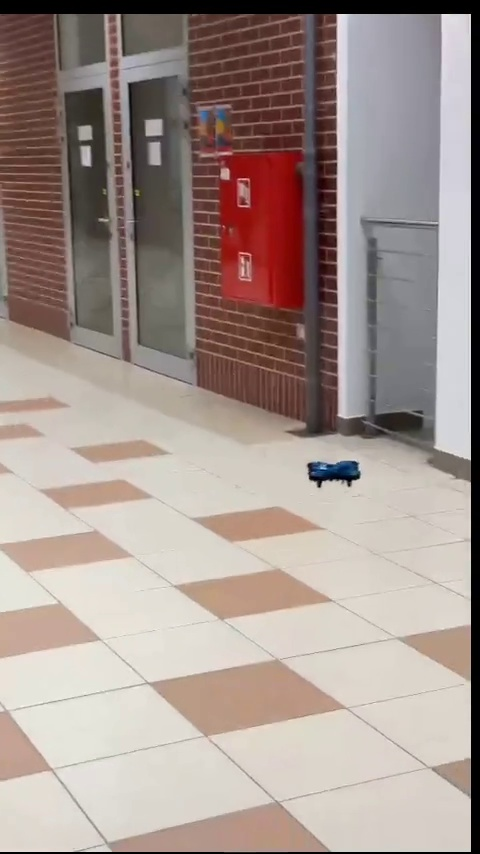drone: (304, 458, 367, 485)
